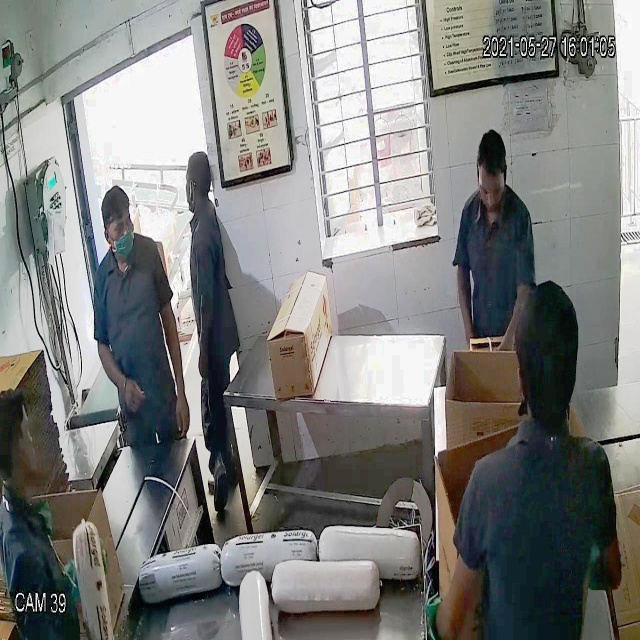Sin_gafas: (472, 170, 509, 206), (102, 212, 136, 240)
